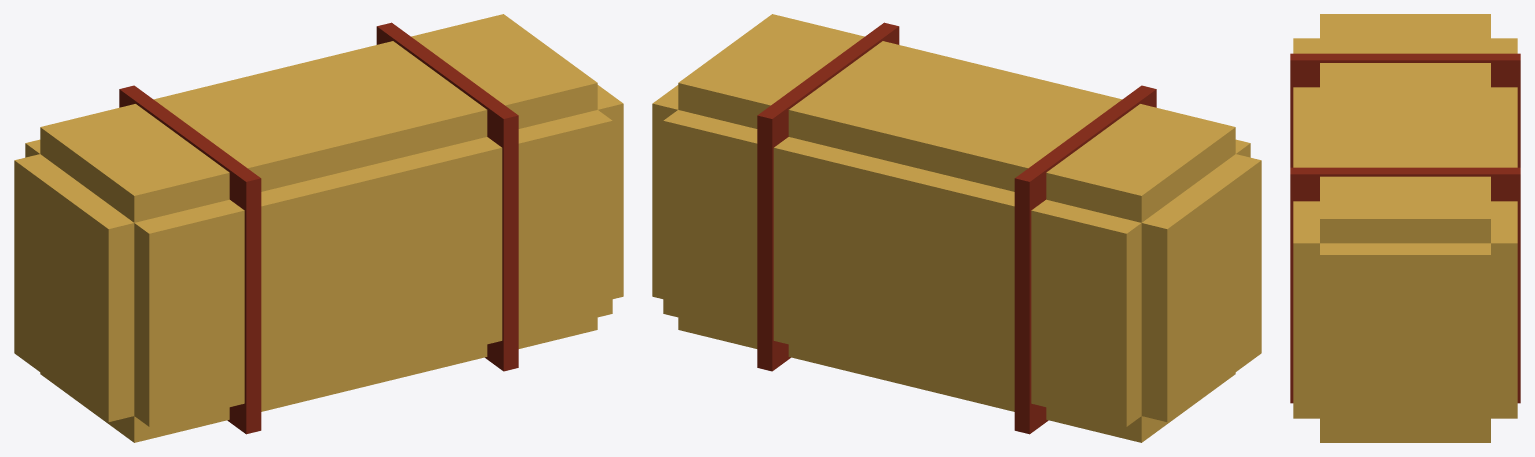
File: square-hay-bale.glb
3 renders of one model, left to right at view 1: azimuth 30°, elevation 25°; view 2: azimuth 150°, elevation 25°; view 3: azimuth 270°, elevation 25°, orthographic. The views are drawn at different scales.
Visible parts, largest first — view 1: square-hay-bale; view 2: square-hay-bale; view 3: square-hay-bale.
Part boxes in pixels (left/top/right/bottom): square-hay-bale: left=14, top=14, right=623, bottom=442; square-hay-bale: left=652, top=14, right=1261, bottom=442; square-hay-bale: left=1290, top=14, right=1520, bottom=442.
Bounding box in the file's own units: 1.2 × 0.562 × 0.512.
